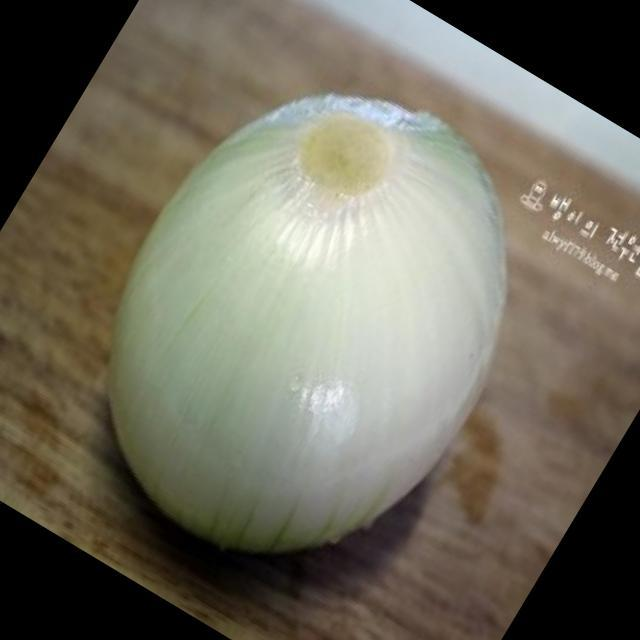Onion: (108, 100, 507, 554)
